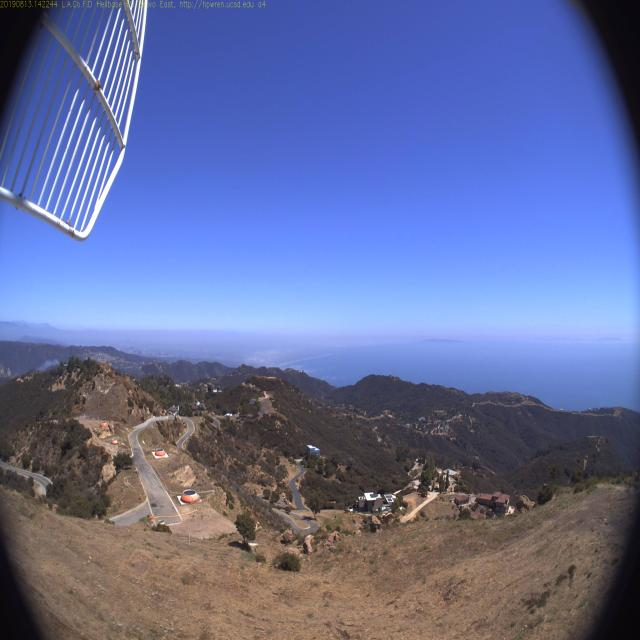smoke: (32, 338, 68, 377)
